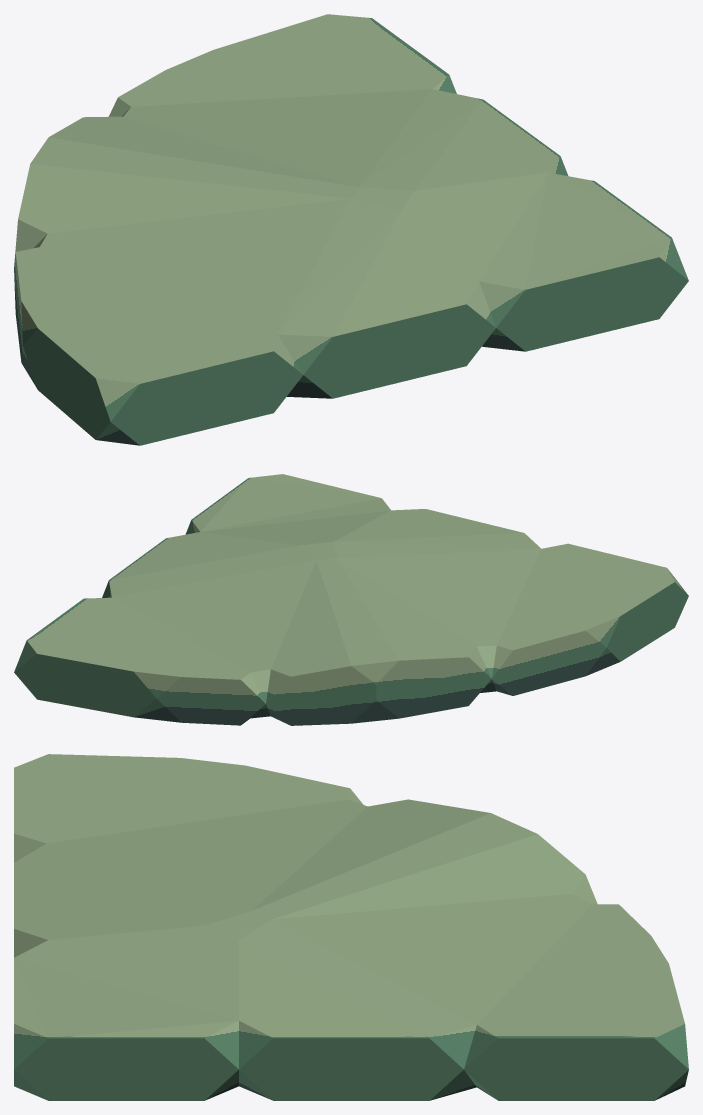
The model's file is Tiles 5.003.fbx.
The picture shows the model from 3 angles, top to bottom: view 1: azimuth 30°, elevation 25°; view 2: azimuth 150°, elevation 25°; view 3: azimuth 270°, elevation 25°; orthographic projection. The views are drawn at different scales.
Parts seen in each view (by area): view 1: Tiles 5.003; view 2: Tiles 5.003; view 3: Tiles 5.003.
Part boxes in pixels (x1,y1,x2,y2): Tiles 5.003: [14, 14, 688, 445]; Tiles 5.003: [14, 474, 688, 725]; Tiles 5.003: [14, 754, 688, 1100].
Bounding box in the file's own units: 495 × 66.04 × 495.
